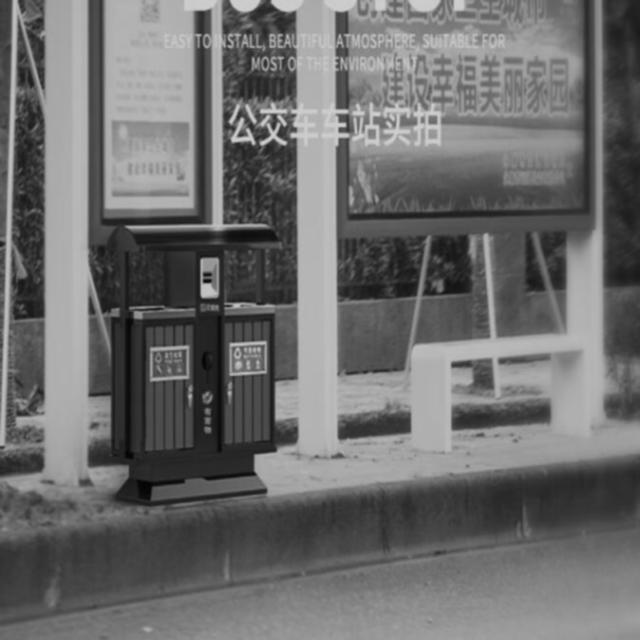ash bin: (100, 219, 282, 503)
